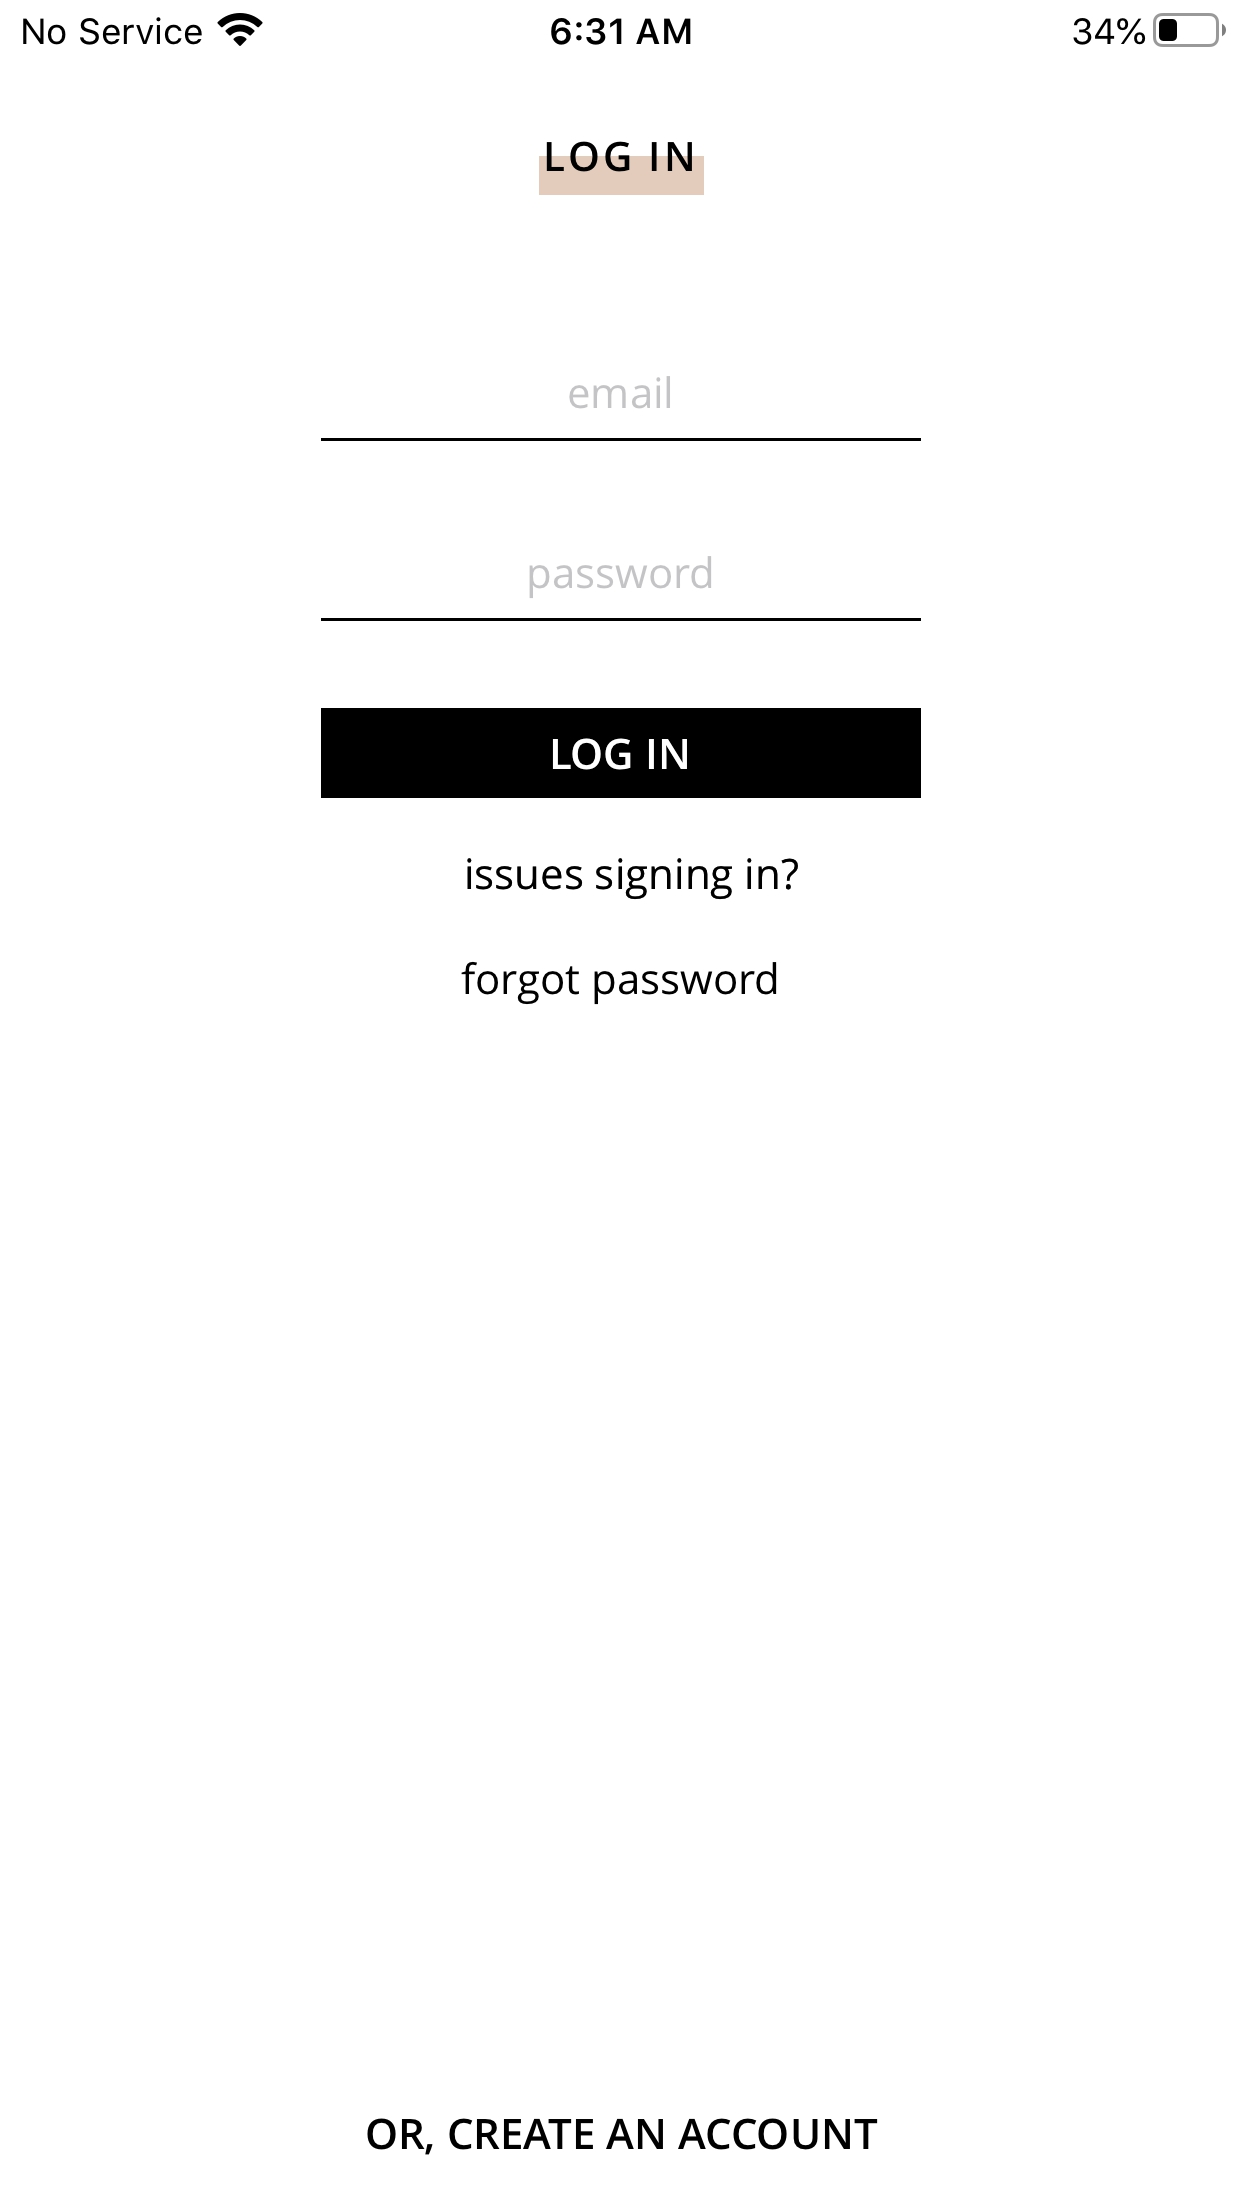EditText: (321, 557, 921, 622), (321, 376, 921, 441)
Text: (469, 858, 798, 899), (463, 963, 776, 1005), (450, 2119, 878, 2149), (528, 558, 713, 601), (547, 143, 692, 173), (569, 378, 672, 411), (369, 2119, 434, 2155)
TextButton: (321, 710, 921, 799)
UpperTaskBar: (2, 2, 1242, 49)
